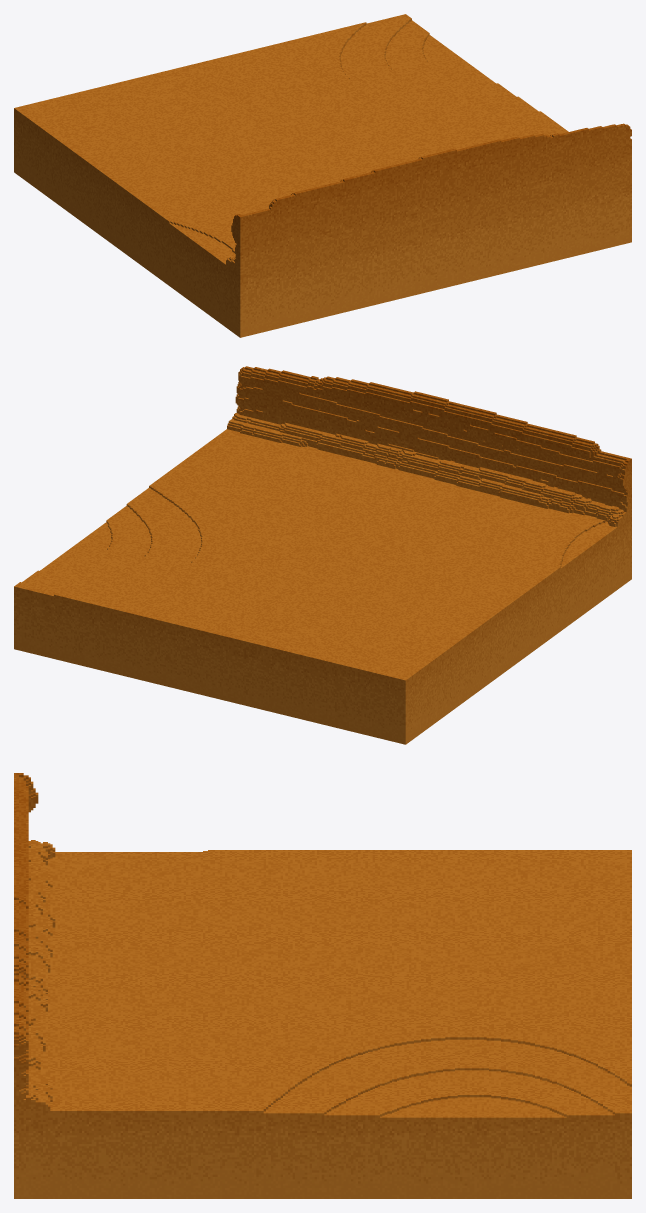
The model's file is Marte-12.obj.
3 renders of one model, top to bottom at view 1: azimuth 30°, elevation 25°; view 2: azimuth 150°, elevation 25°; view 3: azimuth 270°, elevation 25°, orthographic. The views are drawn at different scales.
Size of the model in its own units: 25.5 by 8.4 by 25.5.
Materials: 1 (1 with a texture image).
